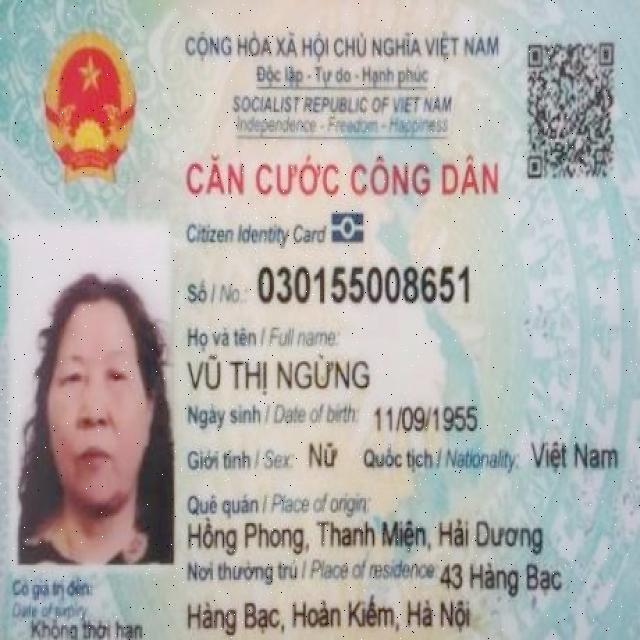current_place: (184, 592, 477, 636), (441, 562, 563, 599)
dob: (372, 401, 480, 434)
expire_date: (29, 617, 145, 640)
gender: (306, 438, 340, 470)
id: (257, 261, 473, 307)
name: (186, 352, 373, 397)
nationality: (532, 438, 622, 473)
origin_place: (186, 516, 548, 557)
